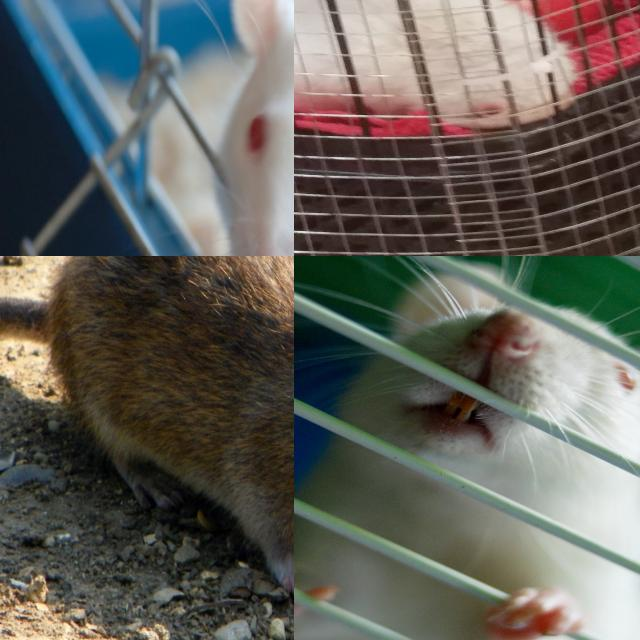rat: (294, 266, 640, 640), (51, 256, 294, 606), (294, 0, 577, 130), (231, 0, 294, 256)
